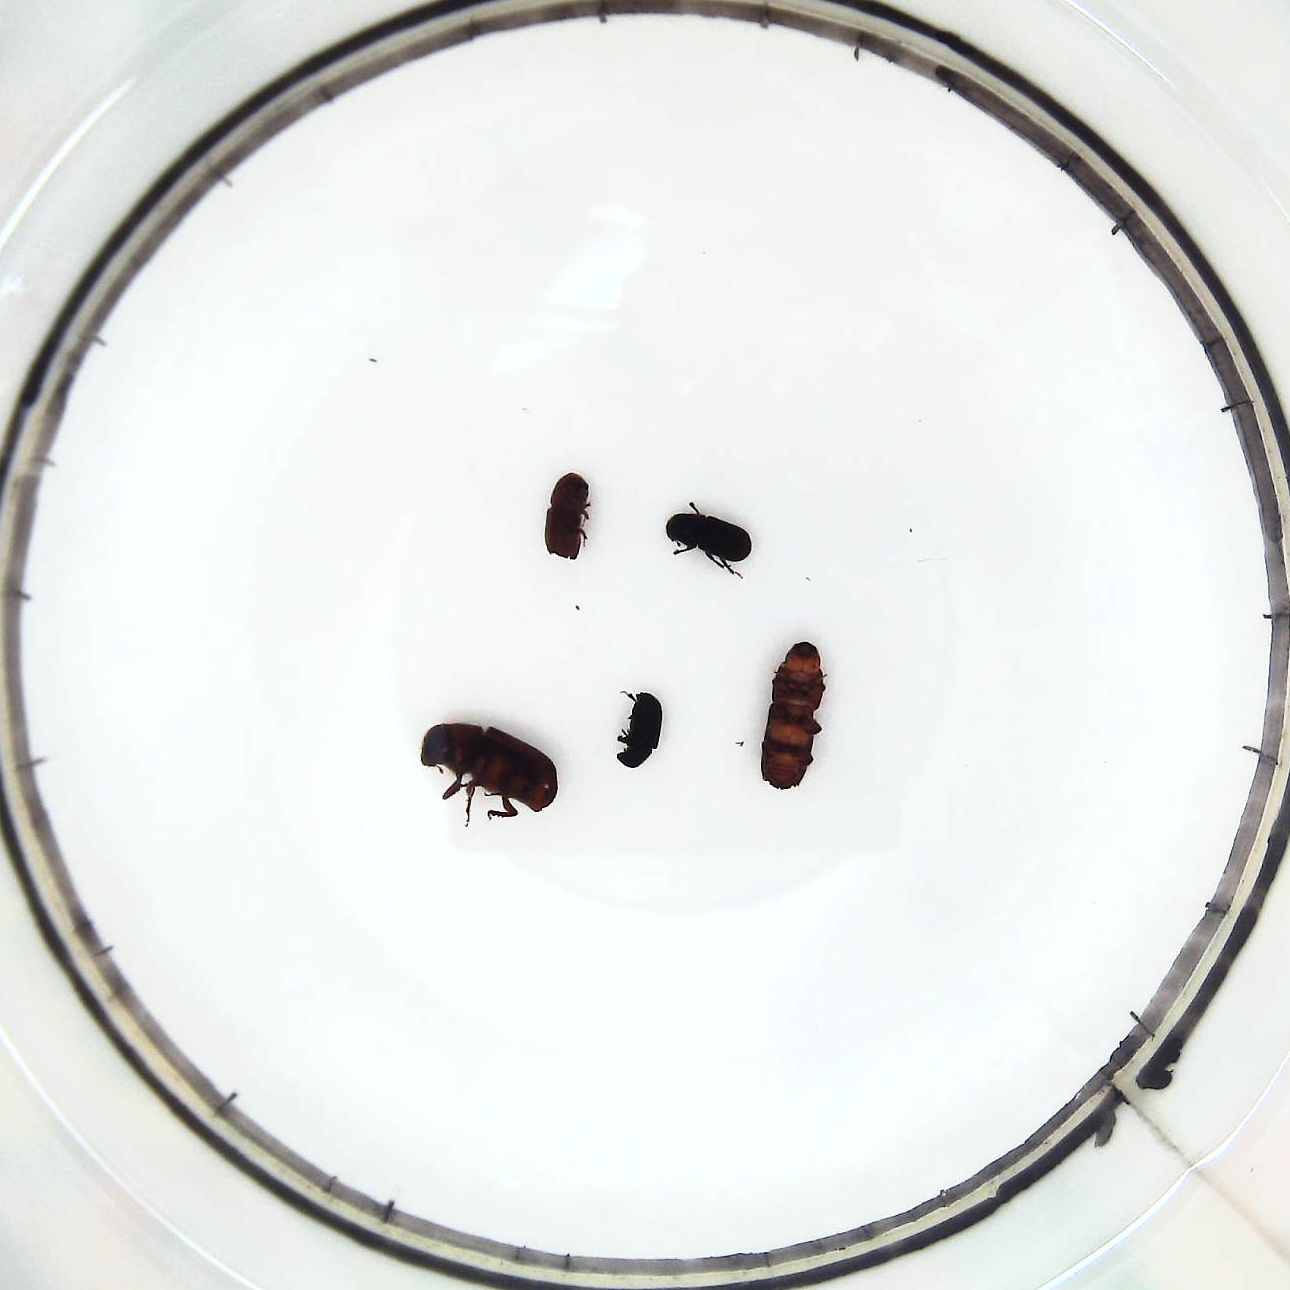Boerner: (755, 636, 830, 793)
Leconte: (416, 715, 571, 827)
armandi: (662, 503, 762, 579)
coleoptera: (614, 686, 672, 771)
linnaeus: (537, 471, 592, 562)
